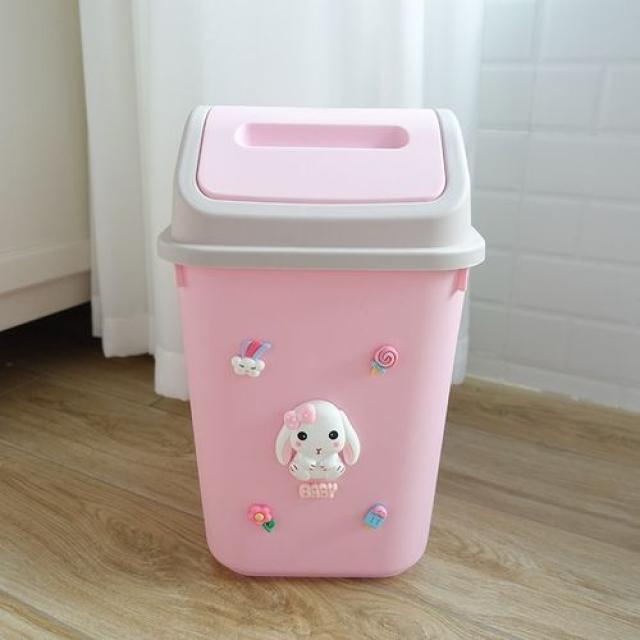dustbin: (153, 98, 490, 590)
